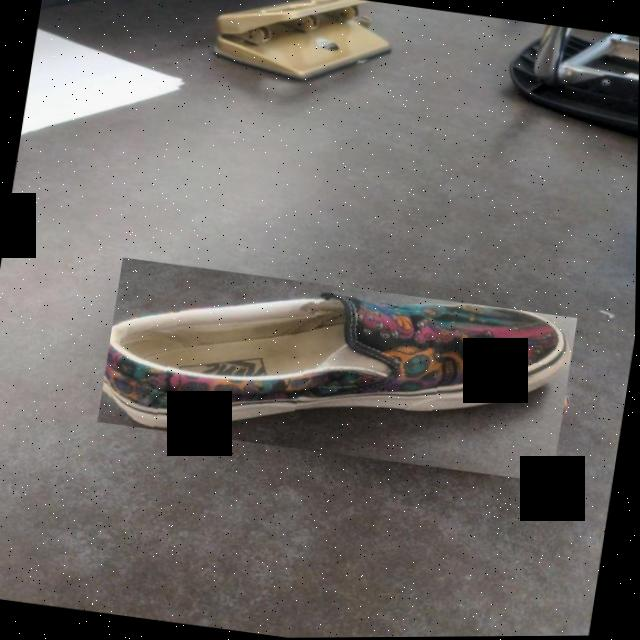shoe: (98, 256, 580, 486)
